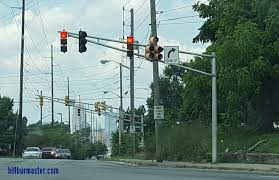red: (126, 36, 134, 58), (59, 31, 67, 52)
